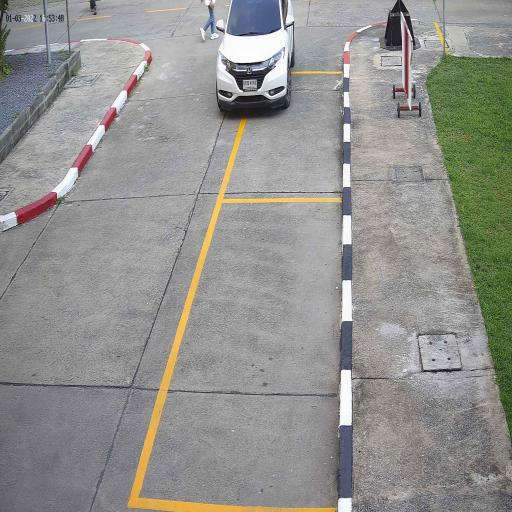car: (216, 0, 294, 114)
